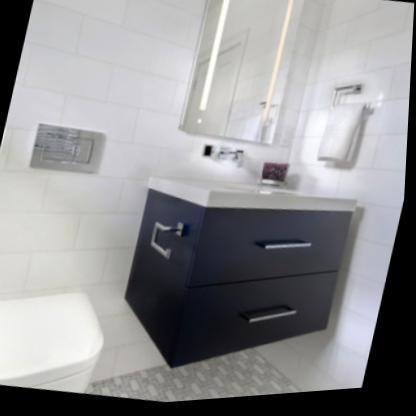Cabinet: (127, 180, 365, 371)
